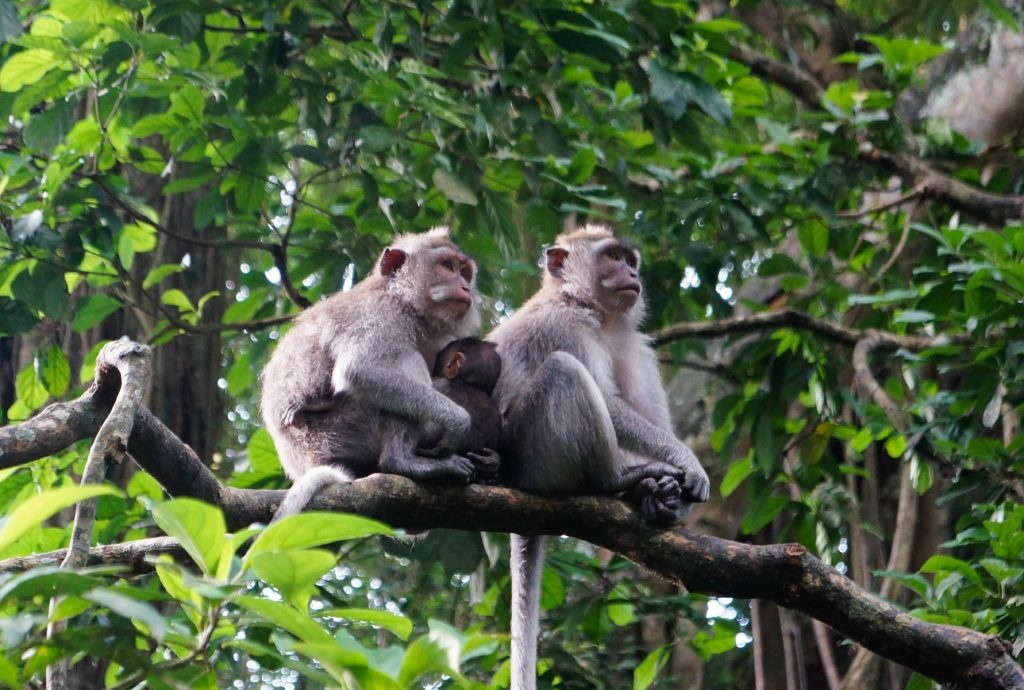monkey: (241, 223, 480, 529), (483, 212, 711, 510), (392, 332, 506, 478)
